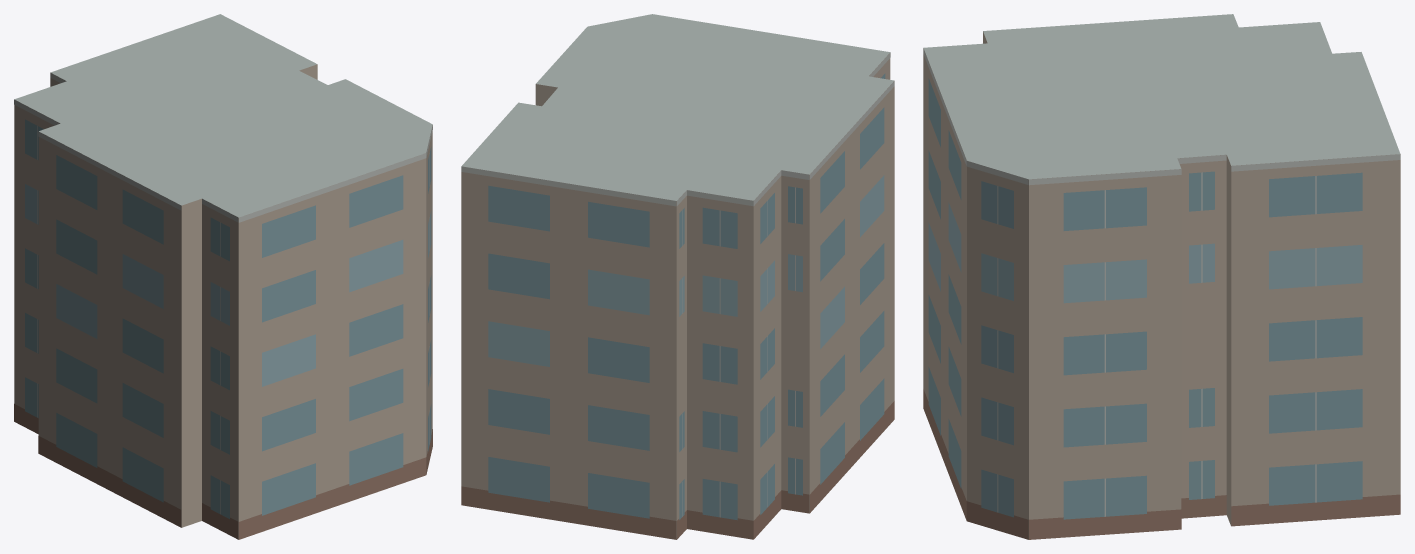
The model's file is survey-upis-33023010.glb.
3 renders of one model, left to right at view 1: azimuth 30°, elevation 25°; view 2: azimuth 150°, elevation 25°; view 3: azimuth 270°, elevation 25°, orthographic. The views are drawn at different scales.
Visible parts, largest first — view 1: survey-upis-33023010.tmp; view 2: survey-upis-33023010.tmp; view 3: survey-upis-33023010.tmp.
Boxes of the visible parts, x1,y1,x2,y2 form: survey-upis-33023010.tmp: (14,14,432,539); survey-upis-33023010.tmp: (461,14,894,539); survey-upis-33023010.tmp: (923,14,1400,539).
Bounding box in the file's own units: 14.76 × 15 × 18.
